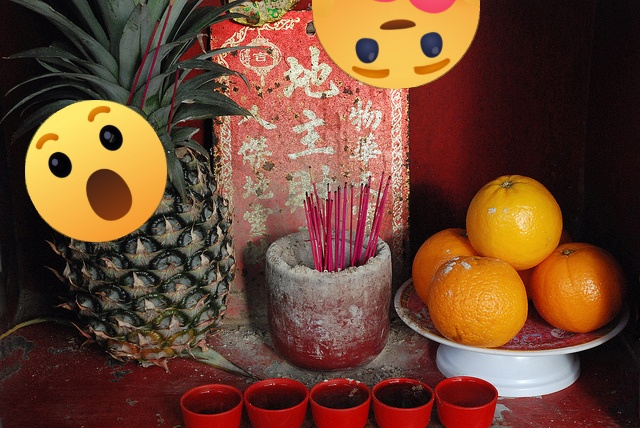care: (312, 0, 480, 89)
wow: (25, 100, 167, 242)
